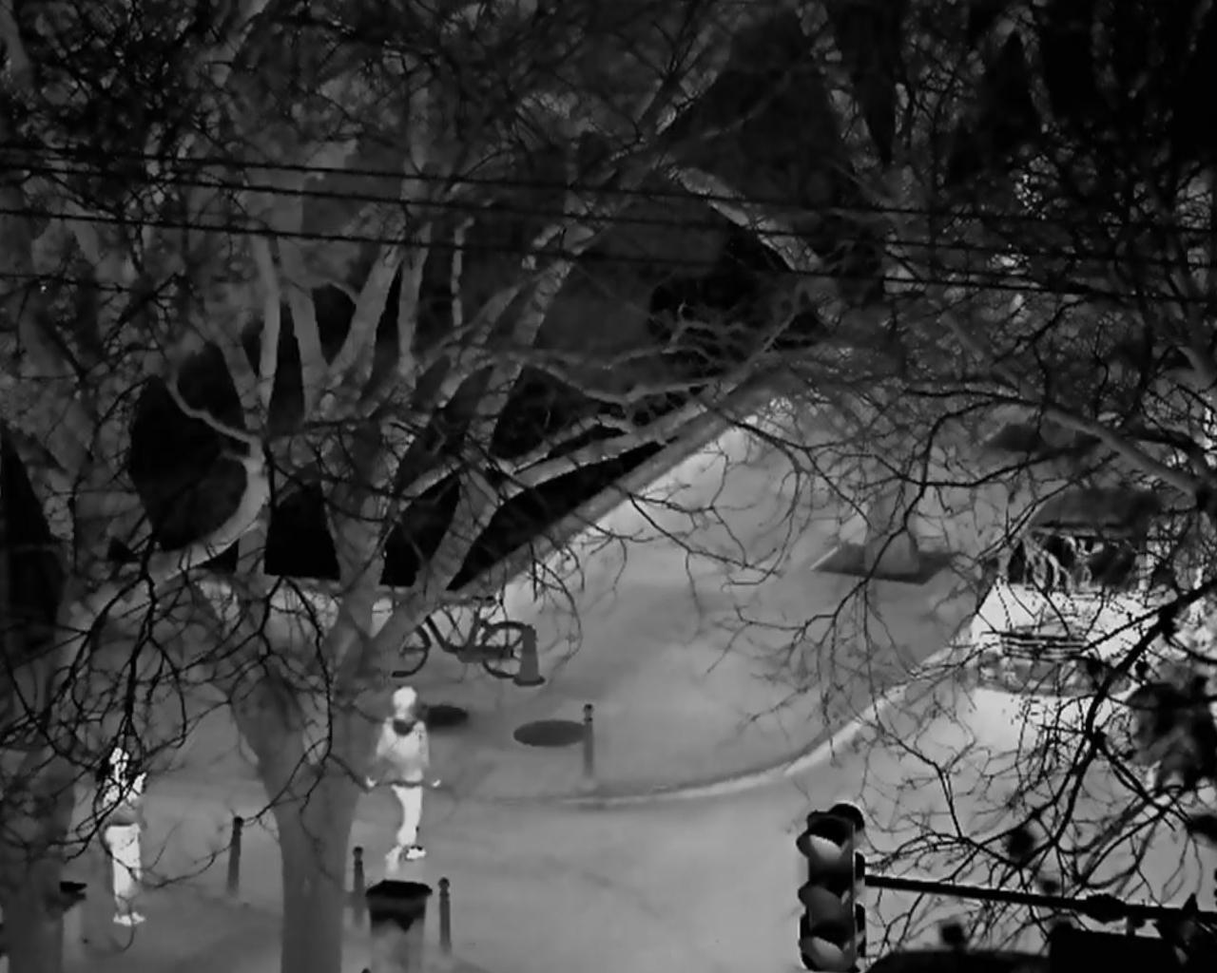person: (363, 683, 443, 870), (103, 748, 146, 926)
